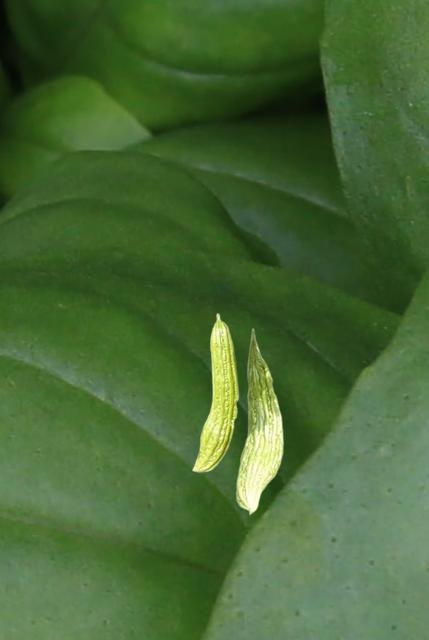ampalaya: (235, 327, 285, 516), (190, 311, 239, 474)
